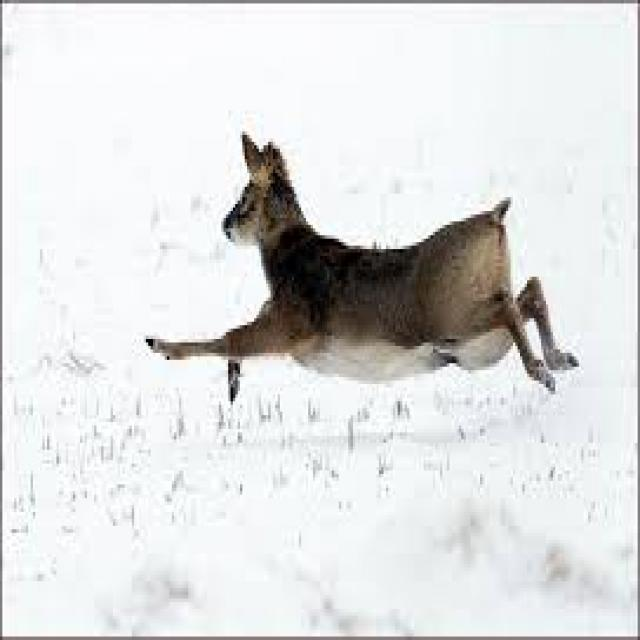elk: (136, 128, 583, 399)
